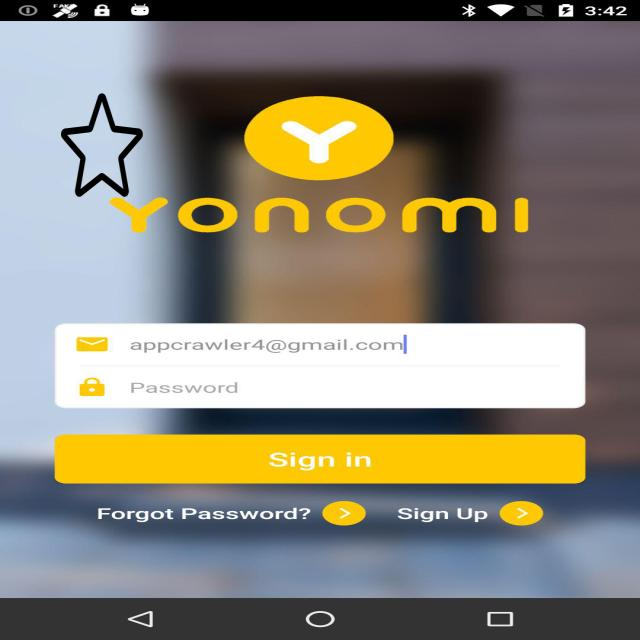forced continuity: (61, 91, 143, 199)
